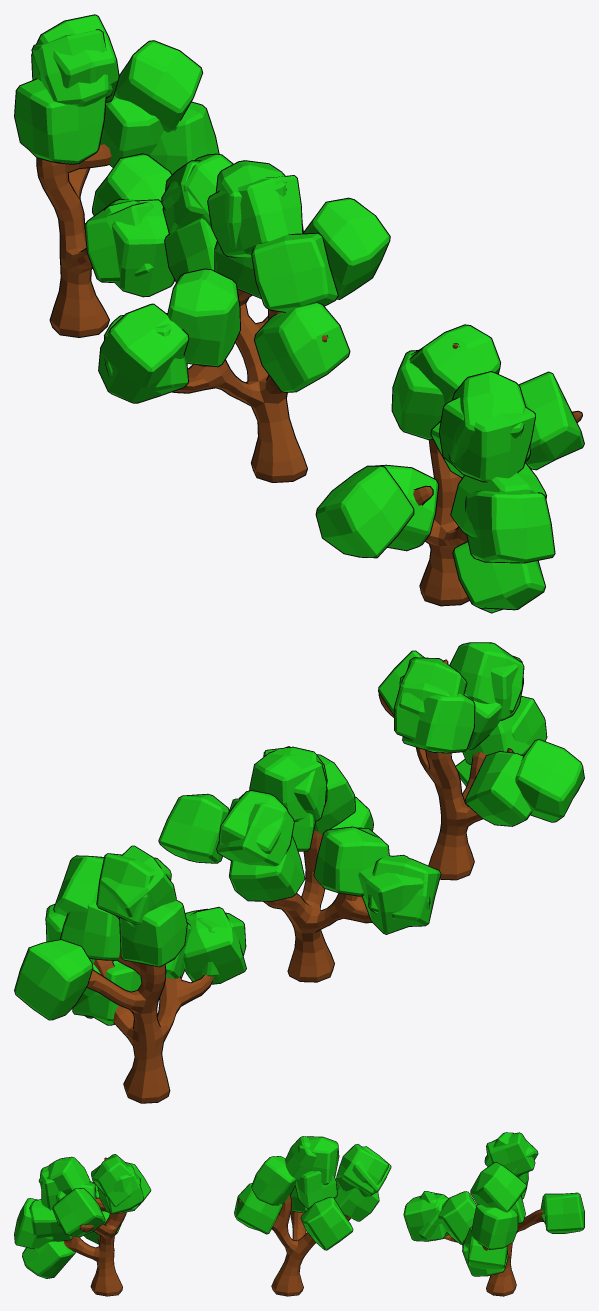
The model's file is tree.fbx.
3 renders of one model, top to bottom at view 1: azimuth 30°, elevation 25°; view 2: azimuth 150°, elevation 25°; view 3: azimuth 270°, elevation 25°, orthographic. The views are drawn at different scales.
Parts seen in each view (by area): view 1: Cube, Cube.003, Cube.002|Cube.001|Dupli|9, Cube|Cube.001|Dupli|6, Cube|Cube.001|Dupli|10, Cube.002|Cube.001|Dupli|11, Cube.003|Cube.001|Dupli|, Cube|Cube.001|Dupli|8, Cube|Cube.001|Dupli|7, Cube|Cube.001|Dupli|11, Cube.003|Cube.001|Dupli|4, Cube|Cube.001|Dupli|5 (+22 smaller); view 2: Cube.003, Cube, Cube.002, Cube.003|Cube.001|Dupli|11, Cube.002|Cube.001|Dupli|9, Cube|Cube.001|Dupli|8, Cube|Cube.001|Dupli|11, Cube.002|Cube.001|Dupli|8, Cube.003|Cube.001|Dupli|, Cube.003|Cube.001|Dupli|9, Cube.002|Cube.001|Dupli|1, Cube|Cube.001|Dupli|4 (+23 smaller); view 3: Cube, Cube.002, Cube.003|Cube.001|Dupli|4, Cube|Cube.001|Dupli|11, Cube.002|Cube.001|Dupli|10, Cube.003|Cube.001|Dupli|7, Cube.003|Cube.001|Dupli|11, Cube|Cube.001|Dupli|7, Cube|Cube.001|Dupli|6, Cube.003|Cube.001|Dupli|8, Cube.002|Cube.001|Dupli|6, Cube|Cube.001|Dupli|2 (+19 smaller).
Boxes of the visible parts, x1,y1,x2,y2 form: Cube: (172,289,328,482); Cube.003: (36,144,111,337); Cube.002|Cube.001|Dupli|9: (315,465,414,558); Cube|Cube.001|Dupli|6: (254,302,350,392); Cube|Cube.001|Dupli|10: (98,303,189,403); Cube.002|Cube.001|Dupli|11: (465,490,555,563); Cube.003|Cube.001|Dupli|: (14,78,106,164); Cube|Cube.001|Dupli|8: (167,268,240,367); Cube|Cube.001|Dupli|7: (251,232,338,312); Cube|Cube.001|Dupli|11: (304,197,390,299); Cube.003|Cube.001|Dupli|4: (114,40,202,132); Cube|Cube.001|Dupli|5: (207,175,302,257); Cube.003: (87,950,213,1103); Cube: (263,830,371,982); Cube.002: (378,659,513,880); Cube.003|Cube.001|Dupli|11: (14,939,93,1020); Cube.002|Cube.001|Dupli|9: (515,739,584,822); Cube|Cube.001|Dupli|8: (313,826,389,896); Cube|Cube.001|Dupli|11: (158,793,229,863); Cube.002|Cube.001|Dupli|8: (465,751,531,826); Cube.003|Cube.001|Dupli|: (119,899,187,967); Cube.003|Cube.001|Dupli|9: (183,907,246,984); Cube.002|Cube.001|Dupli|1: (402,693,475,753); Cube|Cube.001|Dupli|4: (249,746,327,821); Cube: (238,1194,350,1296); Cube.002: (63,1157,126,1296); Cube.003|Cube.001|Dupli|4: (470,1162,526,1212); Cube|Cube.001|Dupli|11: (300,1197,353,1250); Cube.002|Cube.001|Dupli|10: (52,1188,105,1237); Cube.003|Cube.001|Dupli|7: (471,1204,518,1249); Cube.003|Cube.001|Dupli|11: (540,1192,584,1233); Cube|Cube.001|Dupli|7: (251,1156,296,1205); Cube|Cube.001|Dupli|6: (234,1183,282,1234); Cube.003|Cube.001|Dupli|8: (438,1191,476,1244); Cube.002|Cube.001|Dupli|6: (22,1241,75,1278); Cube|Cube.001|Dupli|2: (339,1144,388,1194).
Size of the model in its own units: 1361 by 1330 by 4318.
